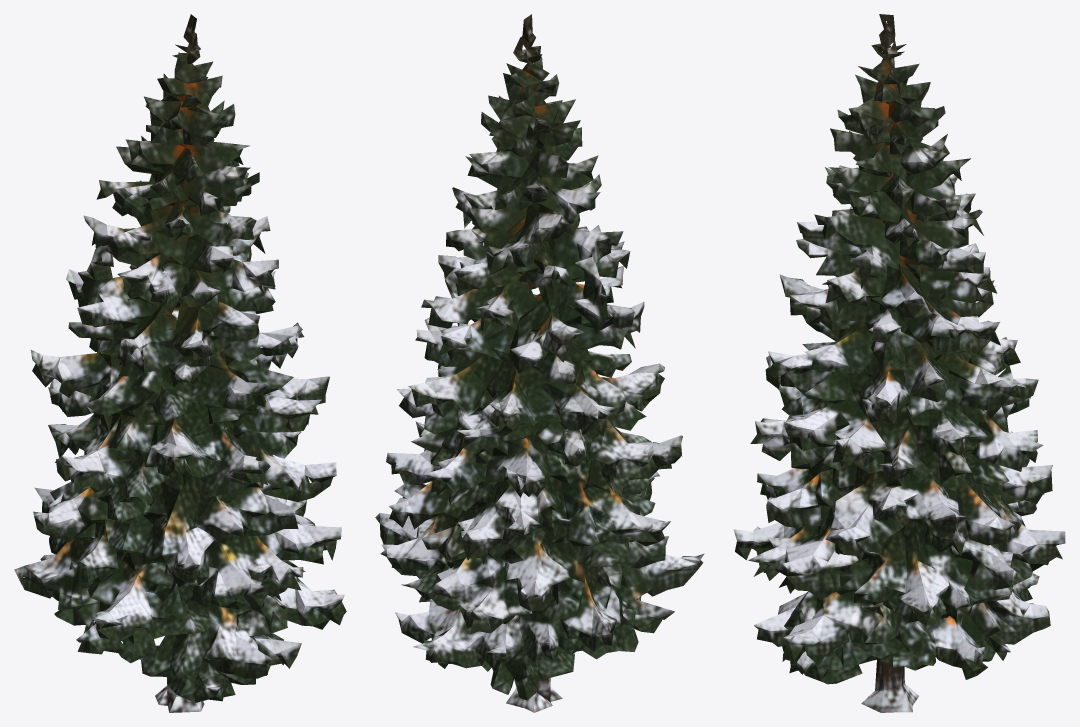
File: spruce_snow.glb
The picture shows the model from 3 angles, left to right: view 1: azimuth 30°, elevation 25°; view 2: azimuth 150°, elevation 25°; view 3: azimuth 270°, elevation 25°; orthographic projection. The views are drawn at different scales.
Parts seen in each view (by area): view 1: geometry_0; view 2: geometry_0; view 3: geometry_0.
Boxes of the visible parts, x1,y1,x2,y2 form: geometry_0: (14, 14, 346, 712); geometry_0: (375, 14, 704, 712); geometry_0: (733, 14, 1065, 712).
Bounding box in the file's own units: 0.4376 × 1 × 0.4331.
1 material, 1 textured.
